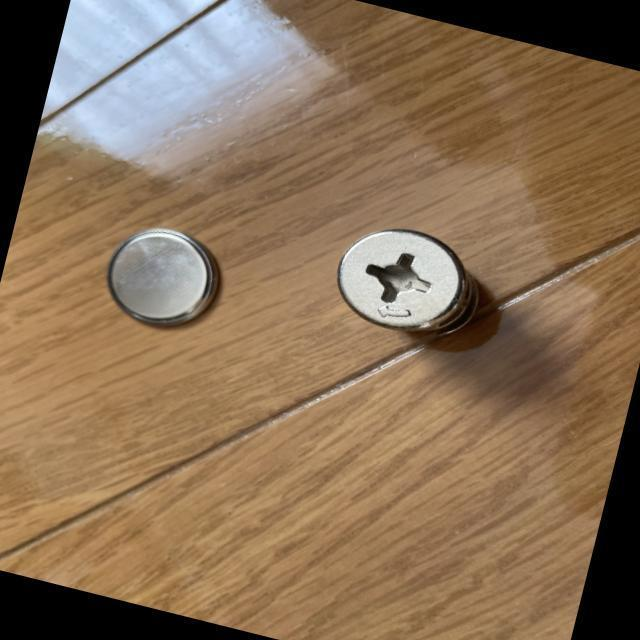COIN: (97, 215, 233, 338)
